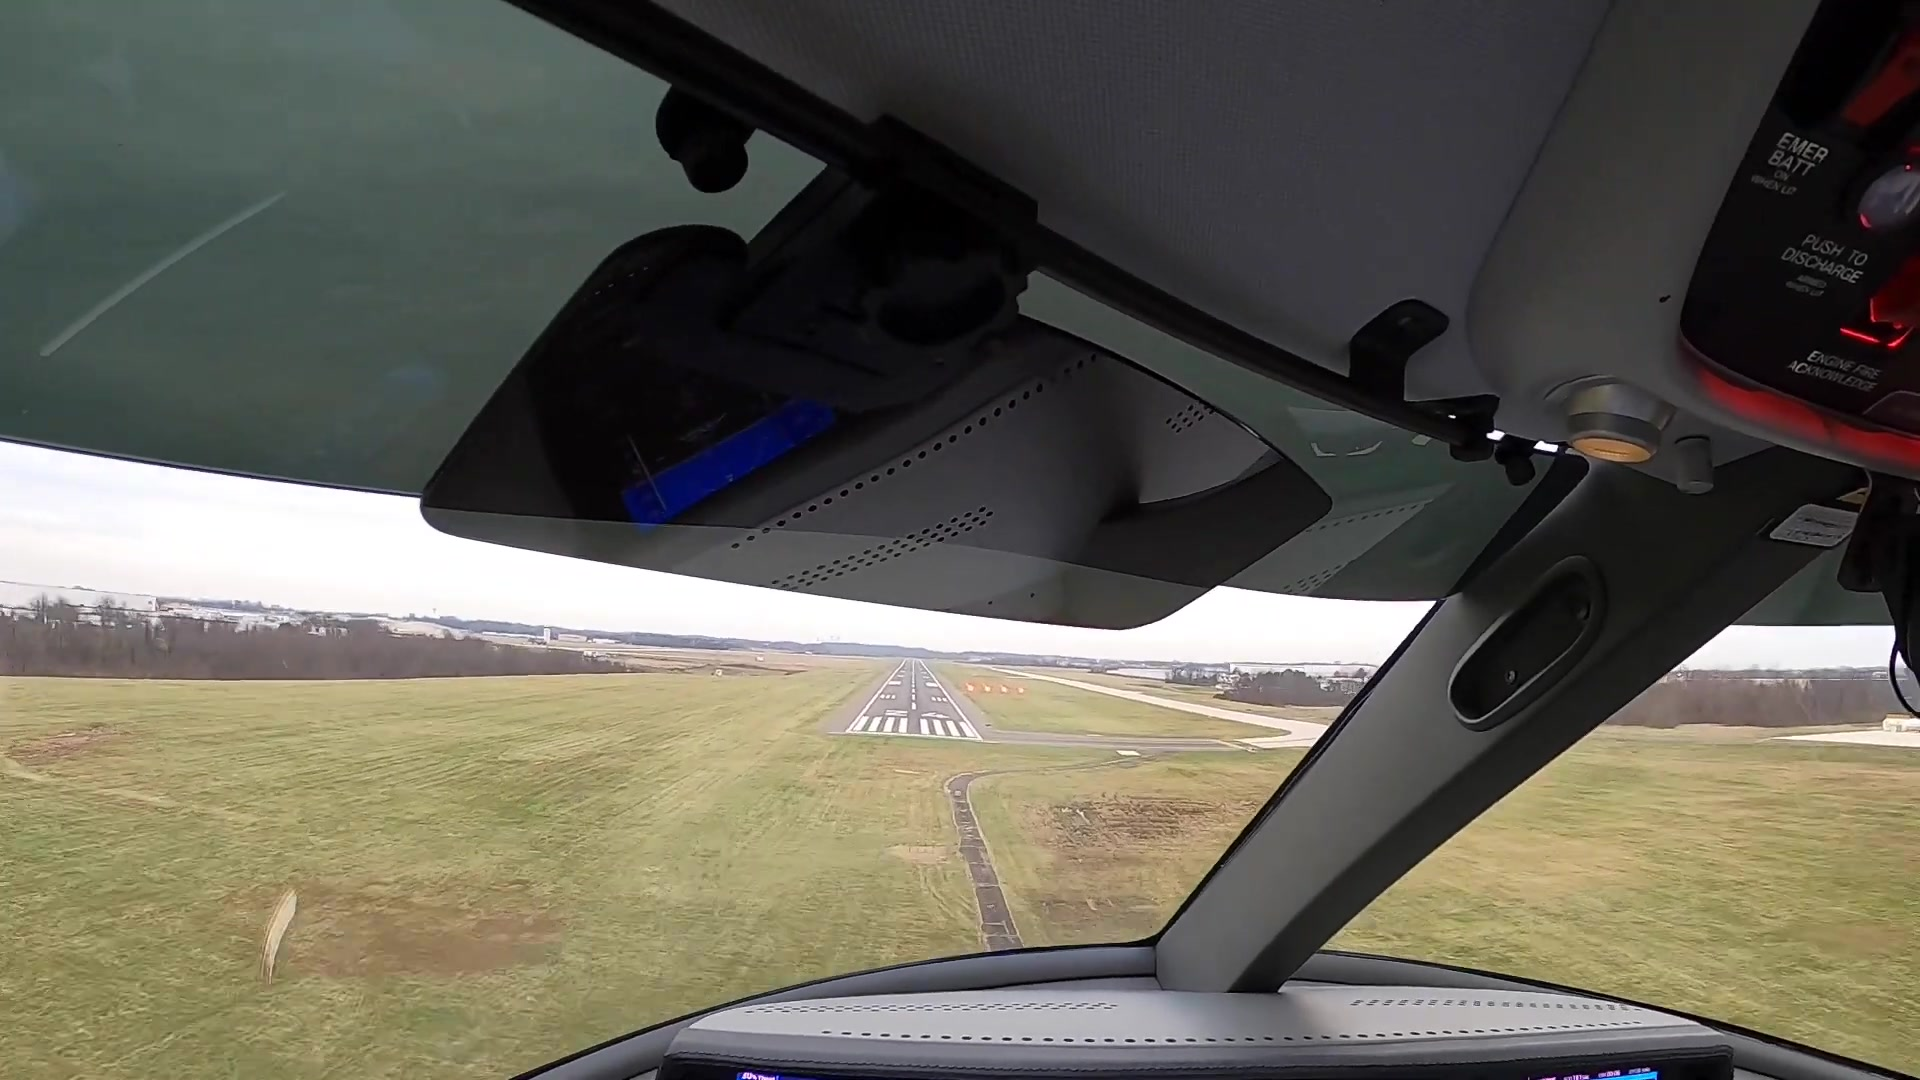entrance: (849, 713, 969, 738)
runway: (843, 654, 988, 745)
